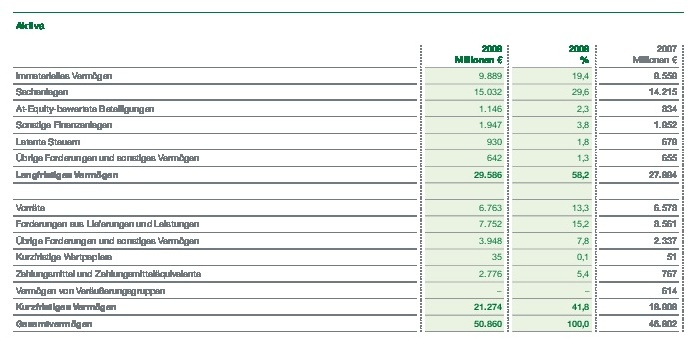table: (0, 0, 696, 351)
